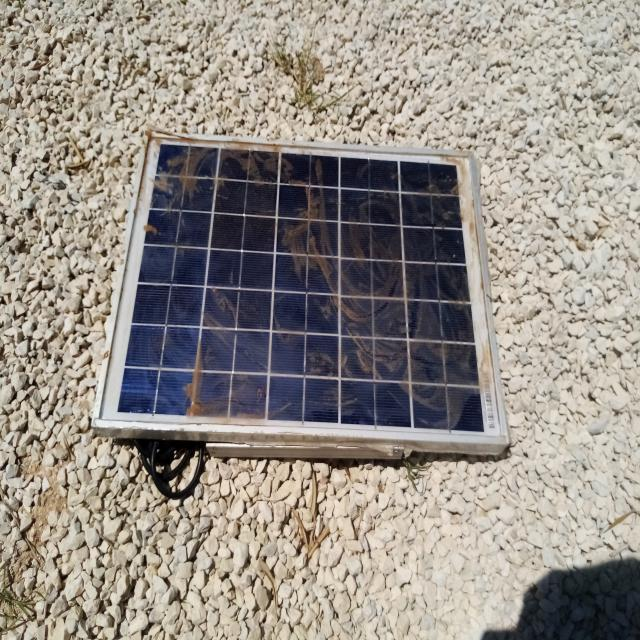faulty: (95, 133, 508, 438)
